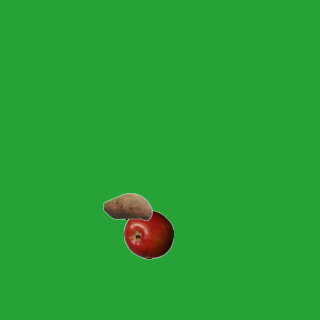Apple Braeburn: (123, 209, 173, 259)
Potato Sweet: (102, 181, 152, 231)
